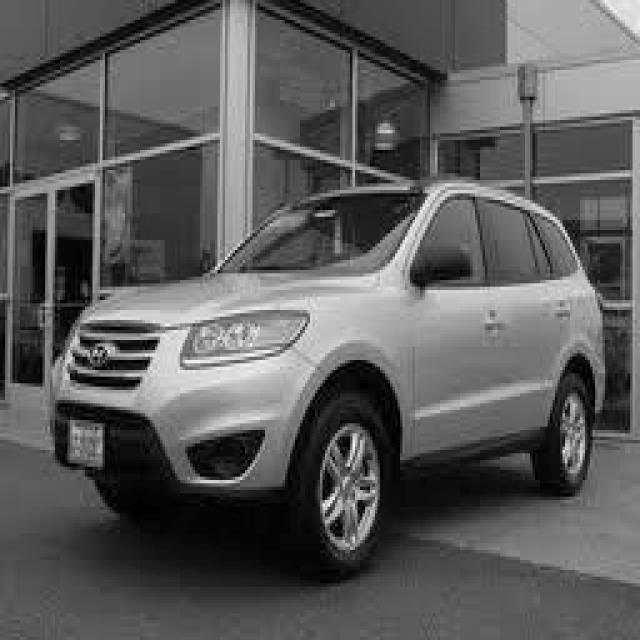car: (45, 173, 605, 577)
